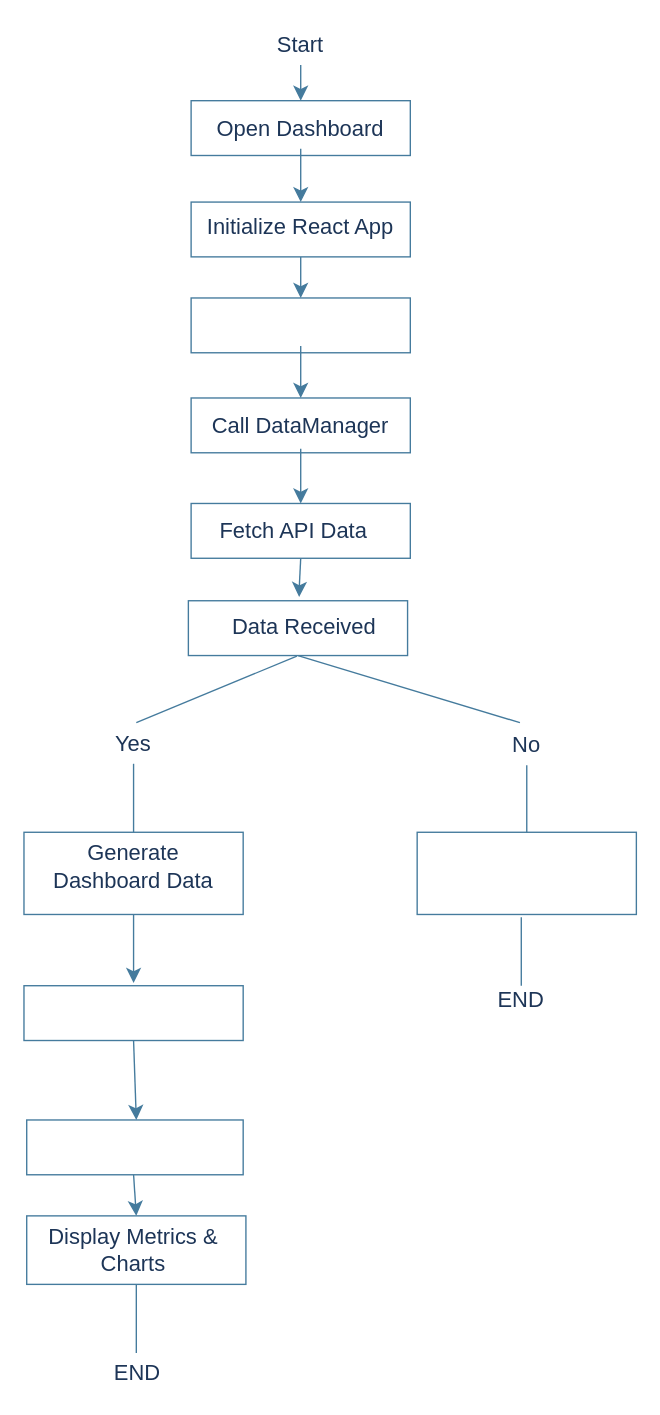
The diagram is 660 pixels wide and 1415 high, and some of its shapes have lost their labels. Here are the shapes that lost their labels. From the top down, the box of each, then its label:
(190, 297, 410, 353): Load DataContext
(416, 831, 636, 914): Show Error Message
(23, 984, 243, 1041): Update Context State
(25, 1119, 243, 1175): Render Dashboard
